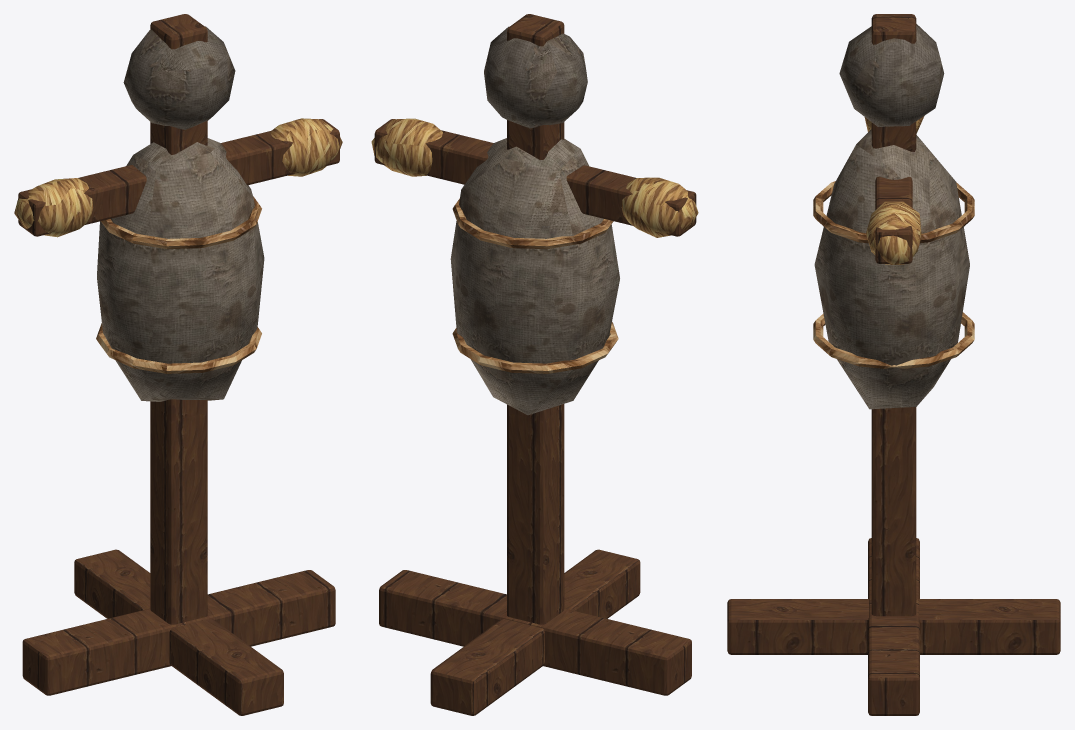
The model's file is straw_dummy__plank_root.glb.
3 renders of one model, left to right at view 1: azimuth 30°, elevation 25°; view 2: azimuth 150°, elevation 25°; view 3: azimuth 270°, elevation 25°, orthographic.
Parts seen in each view (by area): view 1: model; view 2: model; view 3: model.
Boxes of the visible parts, <box> form: model: <box>14,14,342,715</box>; model: <box>371,14,698,715</box>; model: <box>727,14,1060,715</box>.
Size of the model in its own units: 0.9934 by 1.87 by 0.9.
5 materials, 5 textured.
